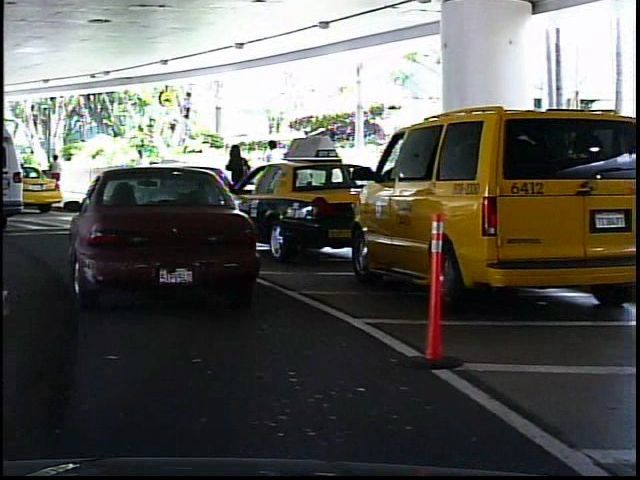person: (222, 139, 256, 214), (260, 136, 287, 212), (128, 143, 153, 204), (45, 150, 67, 198)
